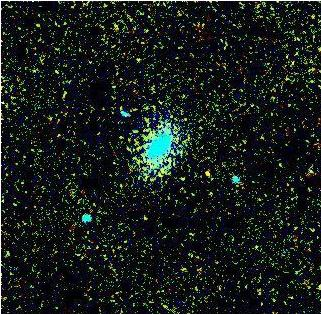star: (191, 160, 221, 190)
